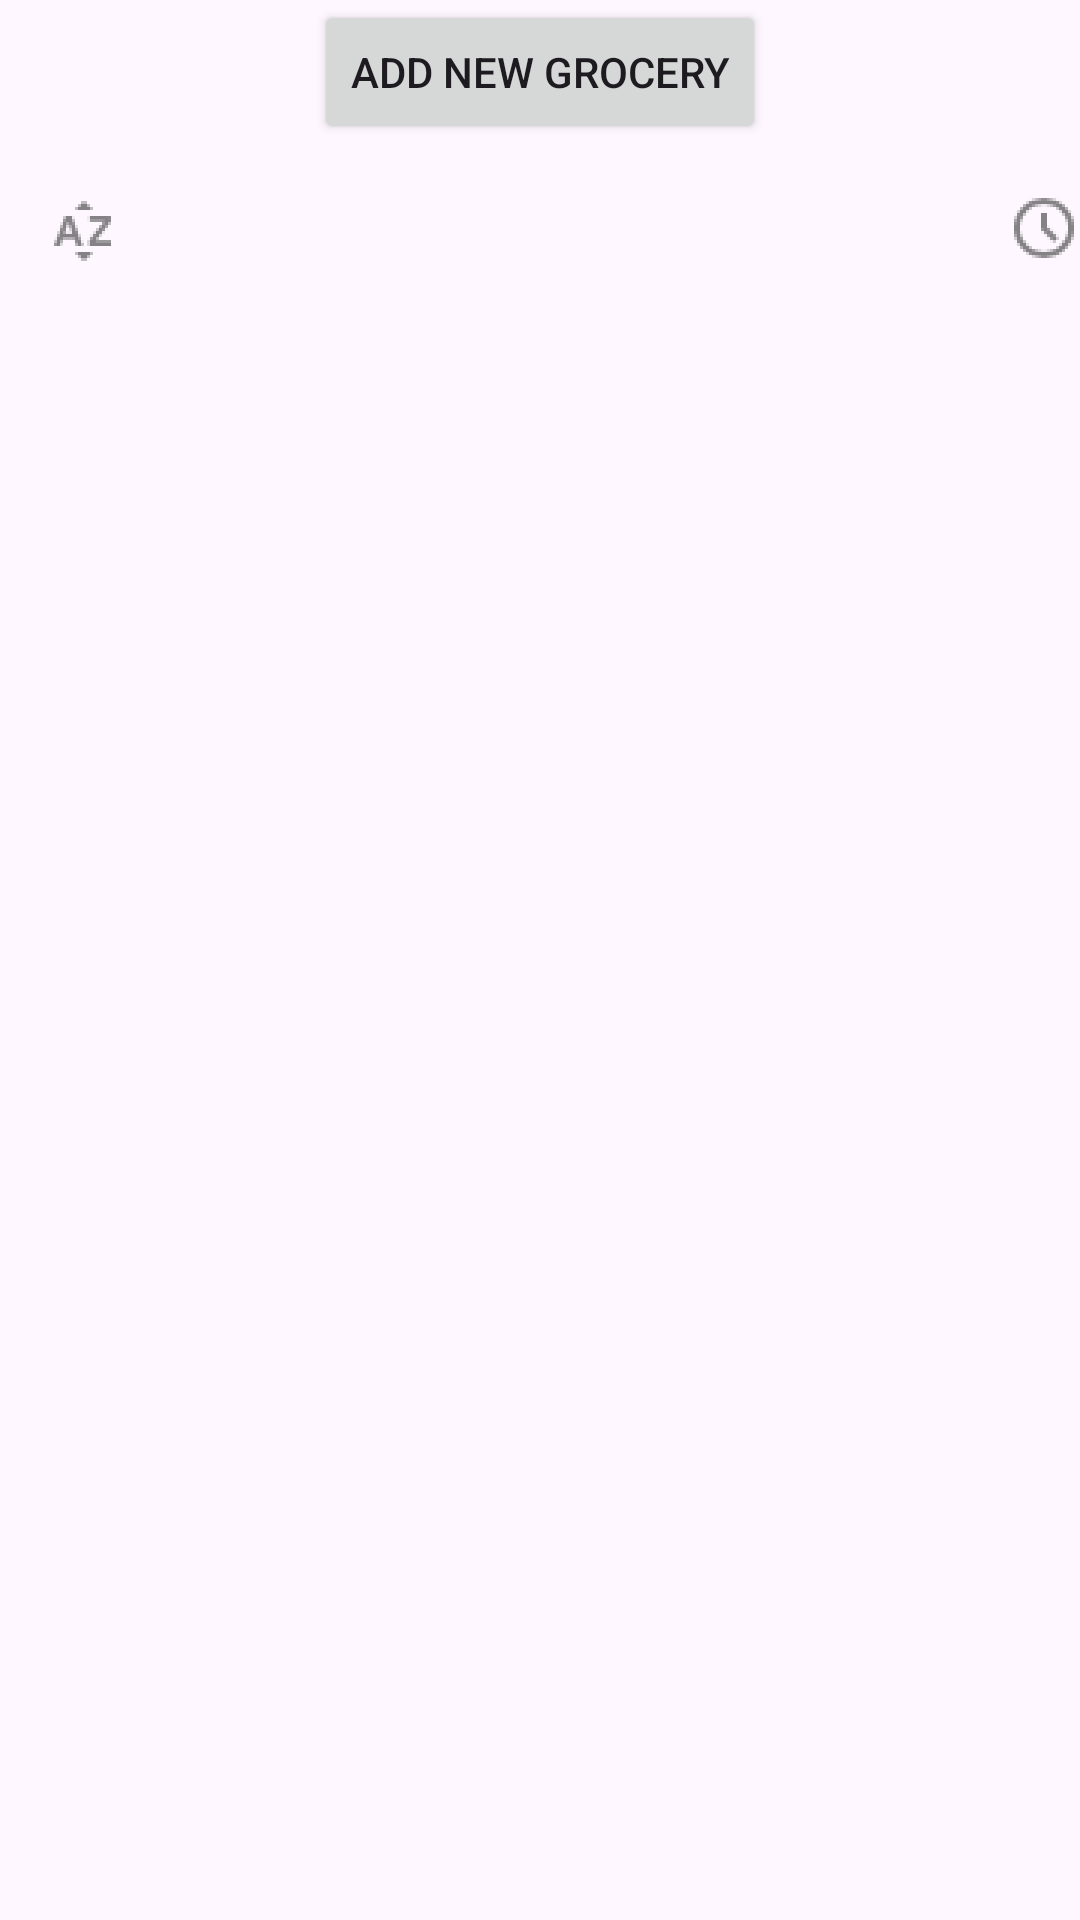

Screen size 1080*1920. Icon name, then its box in pixels as (x1, y1, x2, y2):
alphabet: (54, 201, 111, 261)
time: (1014, 198, 1074, 258)
